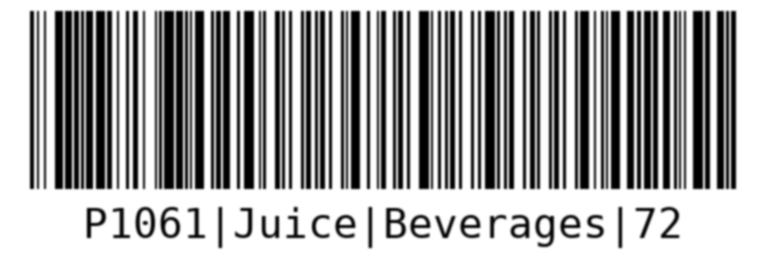milk: (26, 7, 741, 253)
